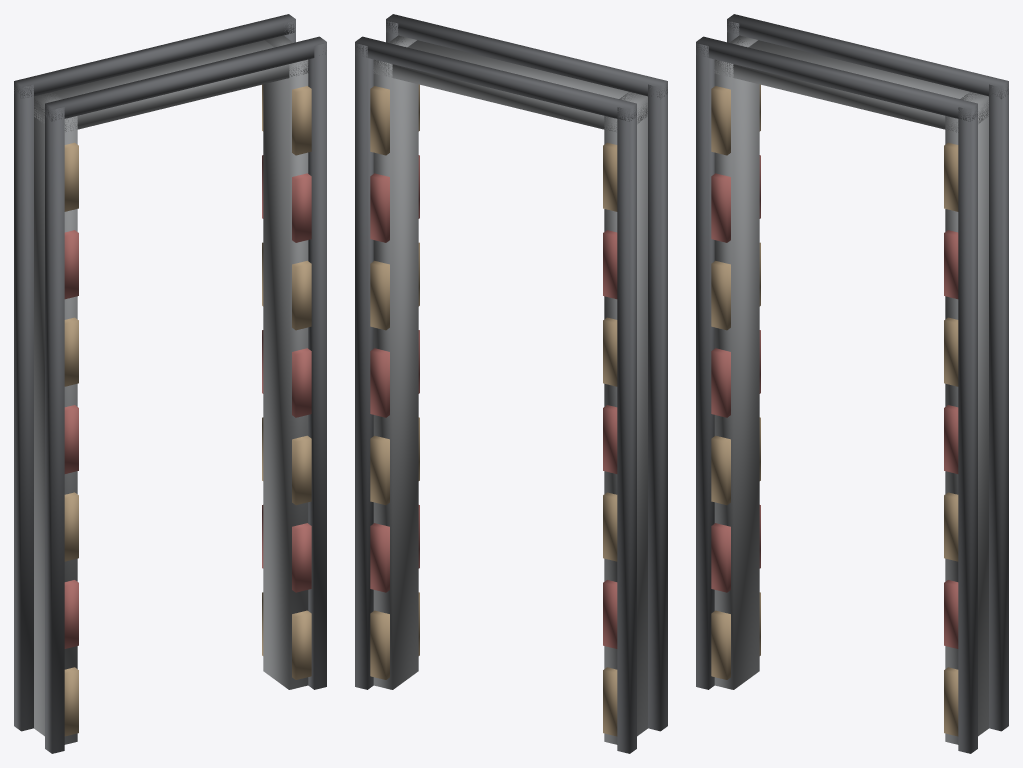
The model's file is doorway_brick_return_w76_h210_d16.glb.
The picture shows the model from 3 angles, left to right: view 1: azimuth 30°, elevation 25°; view 2: azimuth 150°, elevation 25°; view 3: azimuth 330°, elevation 25°; orthographic projection.
Visible parts, largest first — view 1: world; view 2: world; view 3: world.
Part boxes in pixels (x1,y1,x2,y2): world: [14, 14, 326, 753]; world: [355, 14, 667, 753]; world: [696, 14, 1008, 753].
Size of the model in its own units: 0.9868 by 2.21 by 0.2365.
